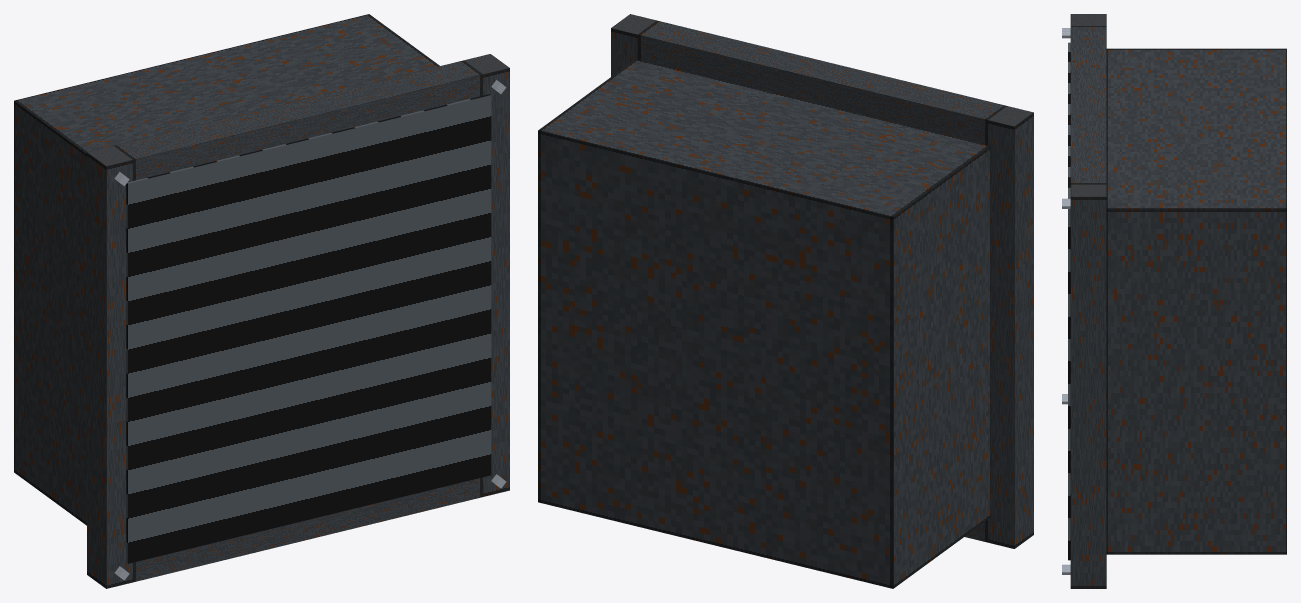
File: vent_grate_command_bridge.glb
3 renders of one model, left to right at view 1: azimuth 30°, elevation 25°; view 2: azimuth 150°, elevation 25°; view 3: azimuth 270°, elevation 25°, orthographic. The views are drawn at different scales.
Visible parts, largest first — view 1: vent_grate_command_bridge; view 2: vent_grate_command_bridge; view 3: vent_grate_command_bridge.
Boxes of the visible parts, x1,y1,x2,y2 form: vent_grate_command_bridge: [14, 14, 509, 588]; vent_grate_command_bridge: [538, 14, 1033, 588]; vent_grate_command_bridge: [1062, 14, 1286, 588].
Size of the model in its own units: 0.6 by 0.6 by 0.312.
Materials: 5 (5 with a texture image).
